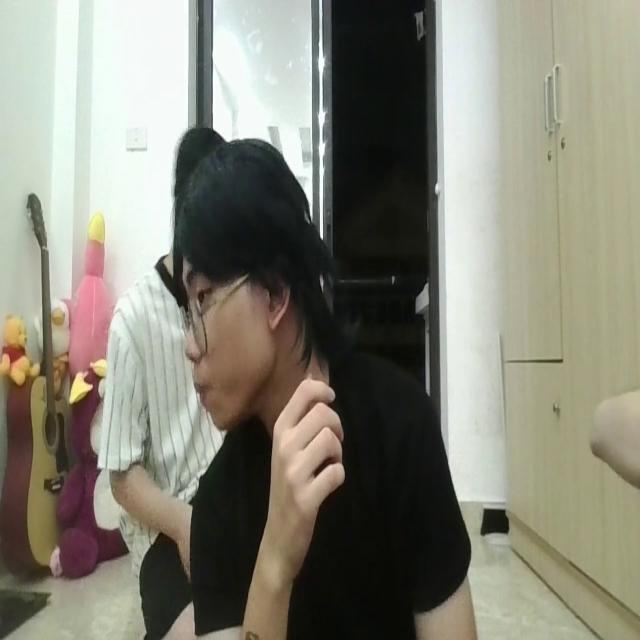student: (182, 130, 477, 640)
